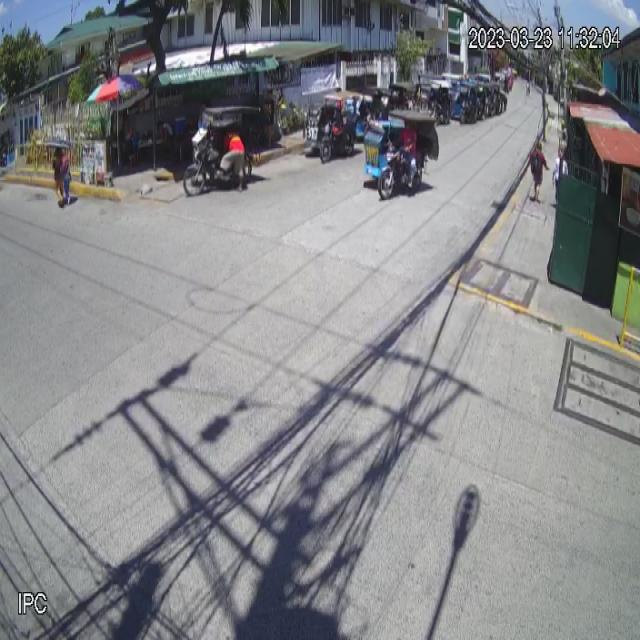Tricycle: (364, 110, 440, 199)
